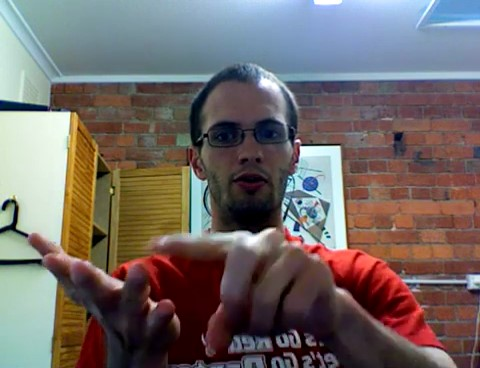O: (18, 214, 351, 364)
